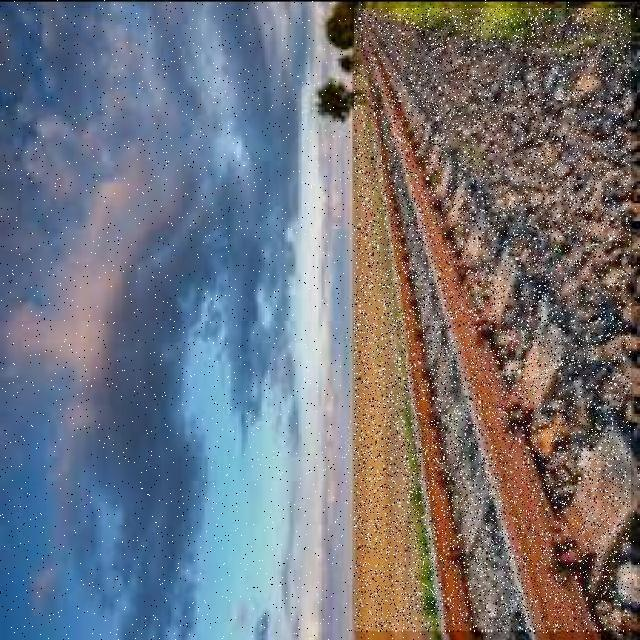rail: (356, 10, 632, 632)
